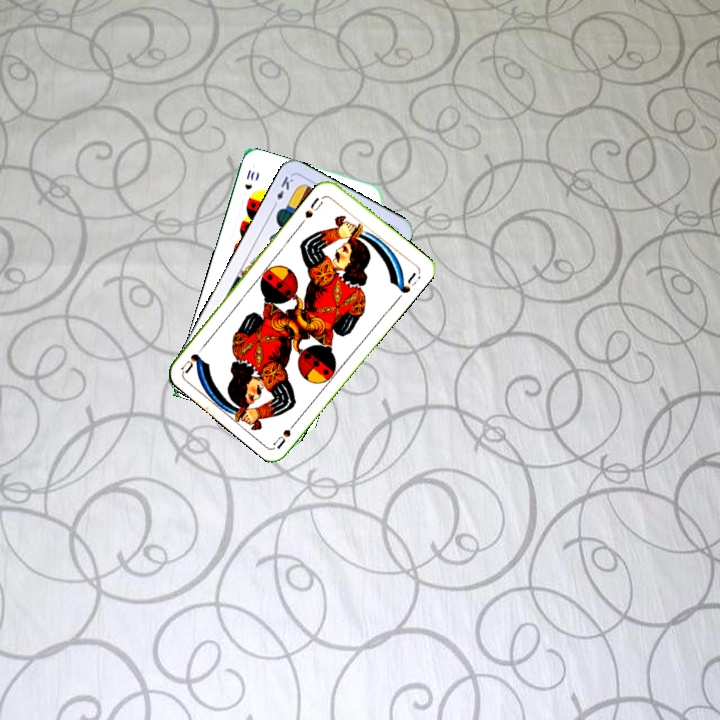EK: (269, 172, 296, 210)
S10: (241, 165, 257, 192)
SU: (270, 414, 302, 451), (298, 192, 328, 226)
